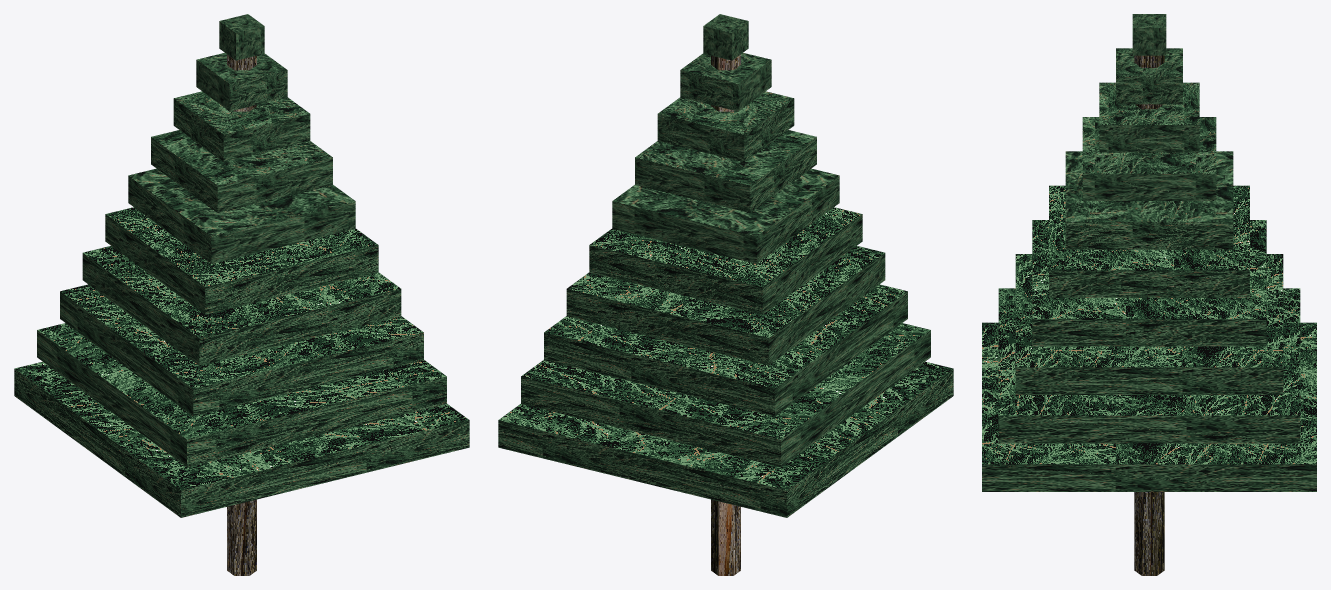
File: tree_textured.glb
3 renders of one model, left to right at view 1: azimuth 30°, elevation 25°; view 2: azimuth 150°, elevation 25°; view 3: azimuth 270°, elevation 25°, orthographic.
Visible parts, largest first — view 1: tree; view 2: tree; view 3: tree.
Part boxes in pixels (left/top/right/bottom): tree: left=14, top=14, right=469, bottom=575; tree: left=498, top=14, right=953, bottom=575; tree: left=982, top=14, right=1316, bottom=575.
Bounding box in the file's own units: 22 × 39.82 × 22.
2 materials, 2 textured.
